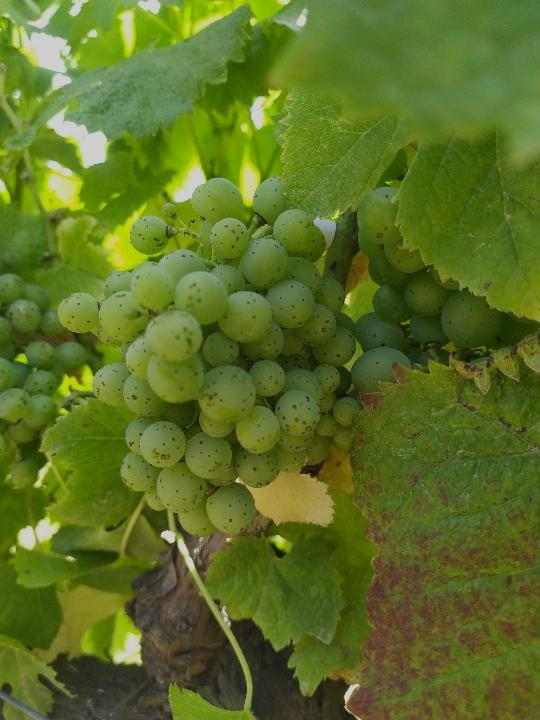grape: (57, 176, 364, 539)
